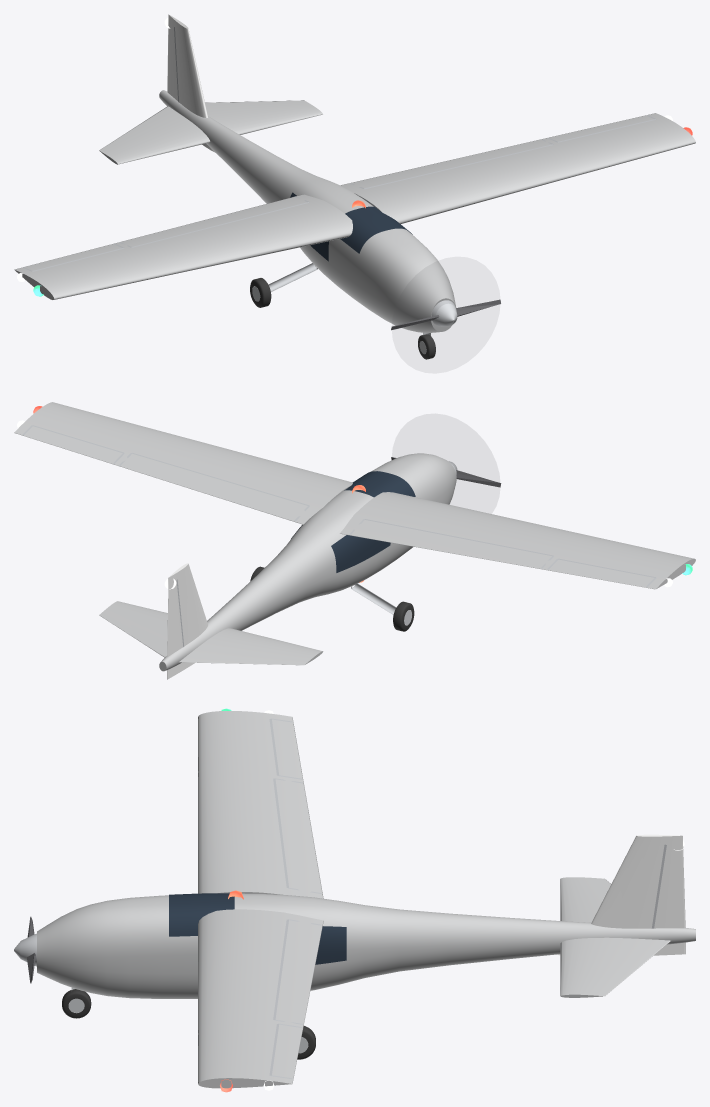
3 views of the same model, one above another, from view 1: azimuth 30°, elevation 25°; view 2: azimuth 150°, elevation 25°; view 3: azimuth 270°, elevation 25° (orthographic). The views are drawn at different scales.
Visible parts, largest first — view 1: airframe; view 2: airframe; view 3: airframe.
Part boxes in pixels (x1,y1,x2,y2): airframe: (14,14,695,359); airframe: (14,402,695,679); airframe: (14,708,695,1092).
Size of the model in its own units: 9.32 by 2.1 by 7.14.
